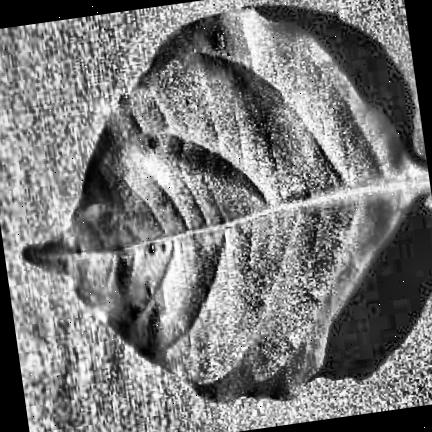leaf: (24, 12, 430, 404)
